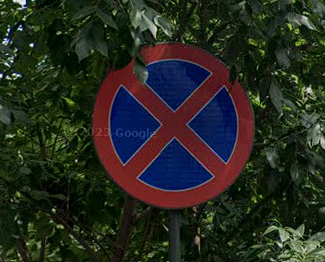oprirea_interzisa: (91, 43, 256, 209)
